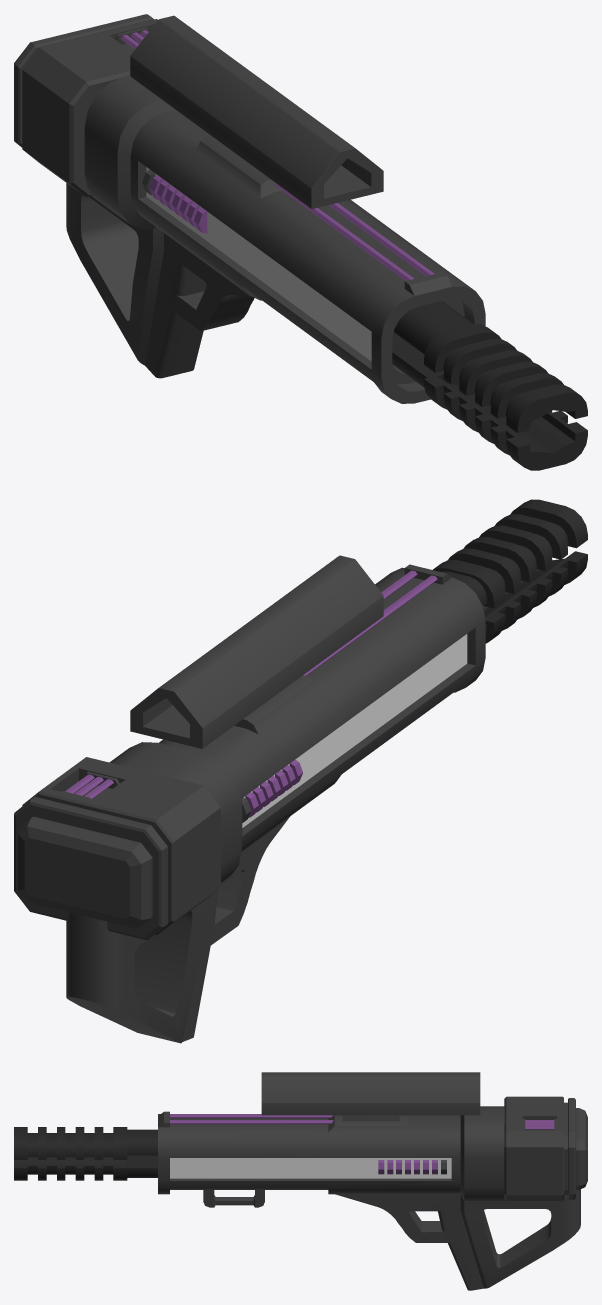
The model's file is railgun.fbx.
The picture shows the model from 3 angles, top to bottom: view 1: azimuth 30°, elevation 25°; view 2: azimuth 150°, elevation 25°; view 3: azimuth 270°, elevation 25°; orthographic projection. The views are drawn at different scales.
Parts seen in each view (by area): view 1: Cube; view 2: Cube; view 3: Cube.
Boxes of the visible parts, x1,y1,x2,y2 form: Cube: (14,14,587,470); Cube: (14,499,587,1043); Cube: (14,1072,587,1290).
Size of the model in its own units: 295 by 650 by 1604.
